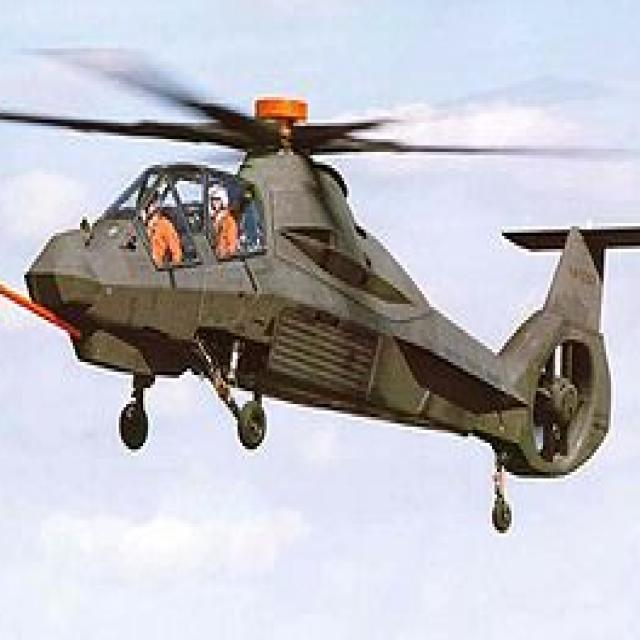helicopter: (1, 53, 640, 547)
